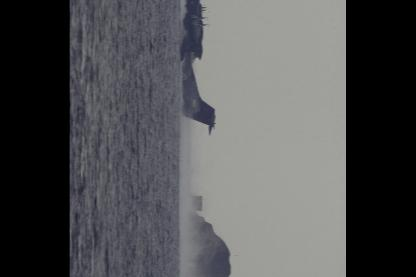Tu95: (181, 0, 217, 136)
